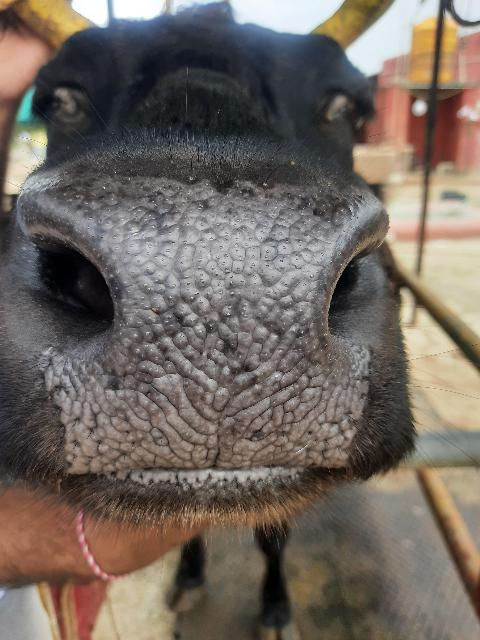Muzzle: (108, 199, 330, 466)
